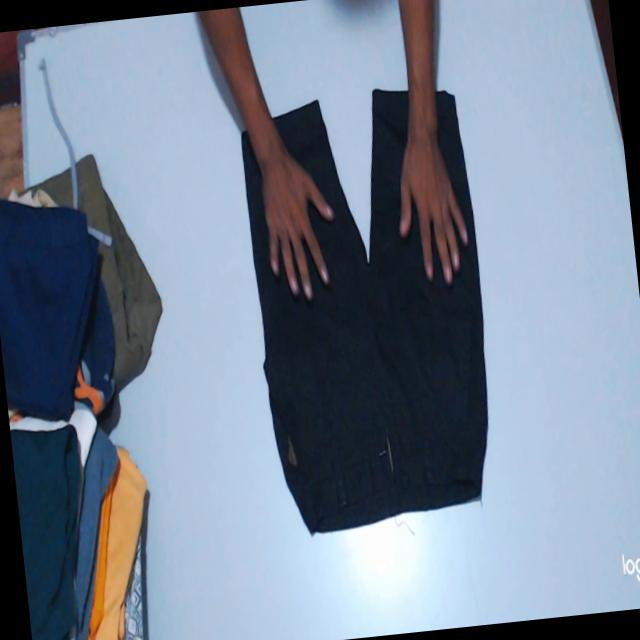new-garment: (242, 89, 487, 532)
